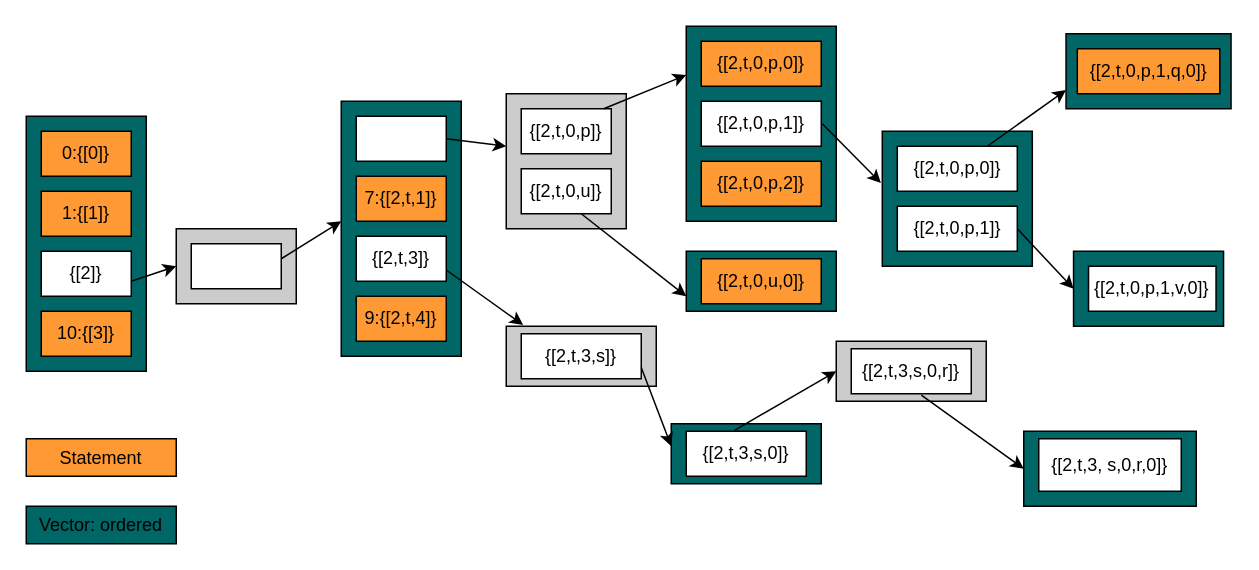
This 1259x570 diagram has some shape labels left out. The box of each missing label's shape, as (x1, y1, x2, y2) in pixels:
{[2,t,0]}: (355, 115, 446, 161)
{[2,t]}: (190, 242, 281, 289)
